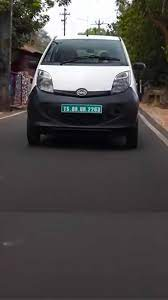Nano: (20, 34, 148, 157)
